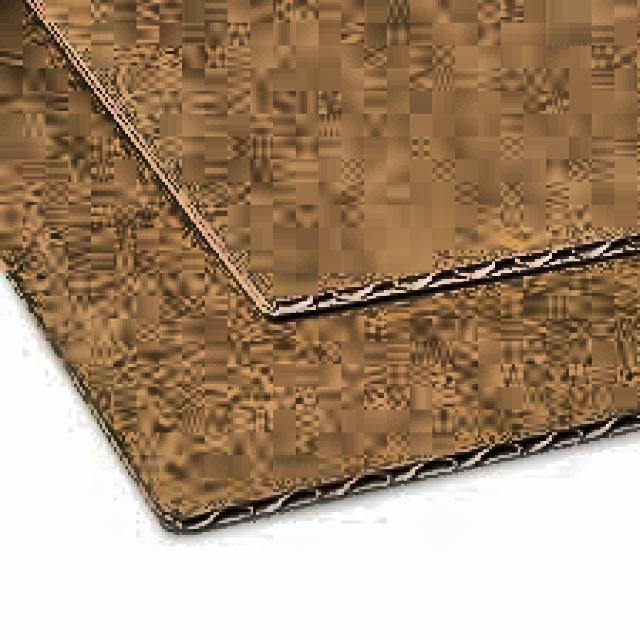cardboard: (0, 0, 637, 532)
